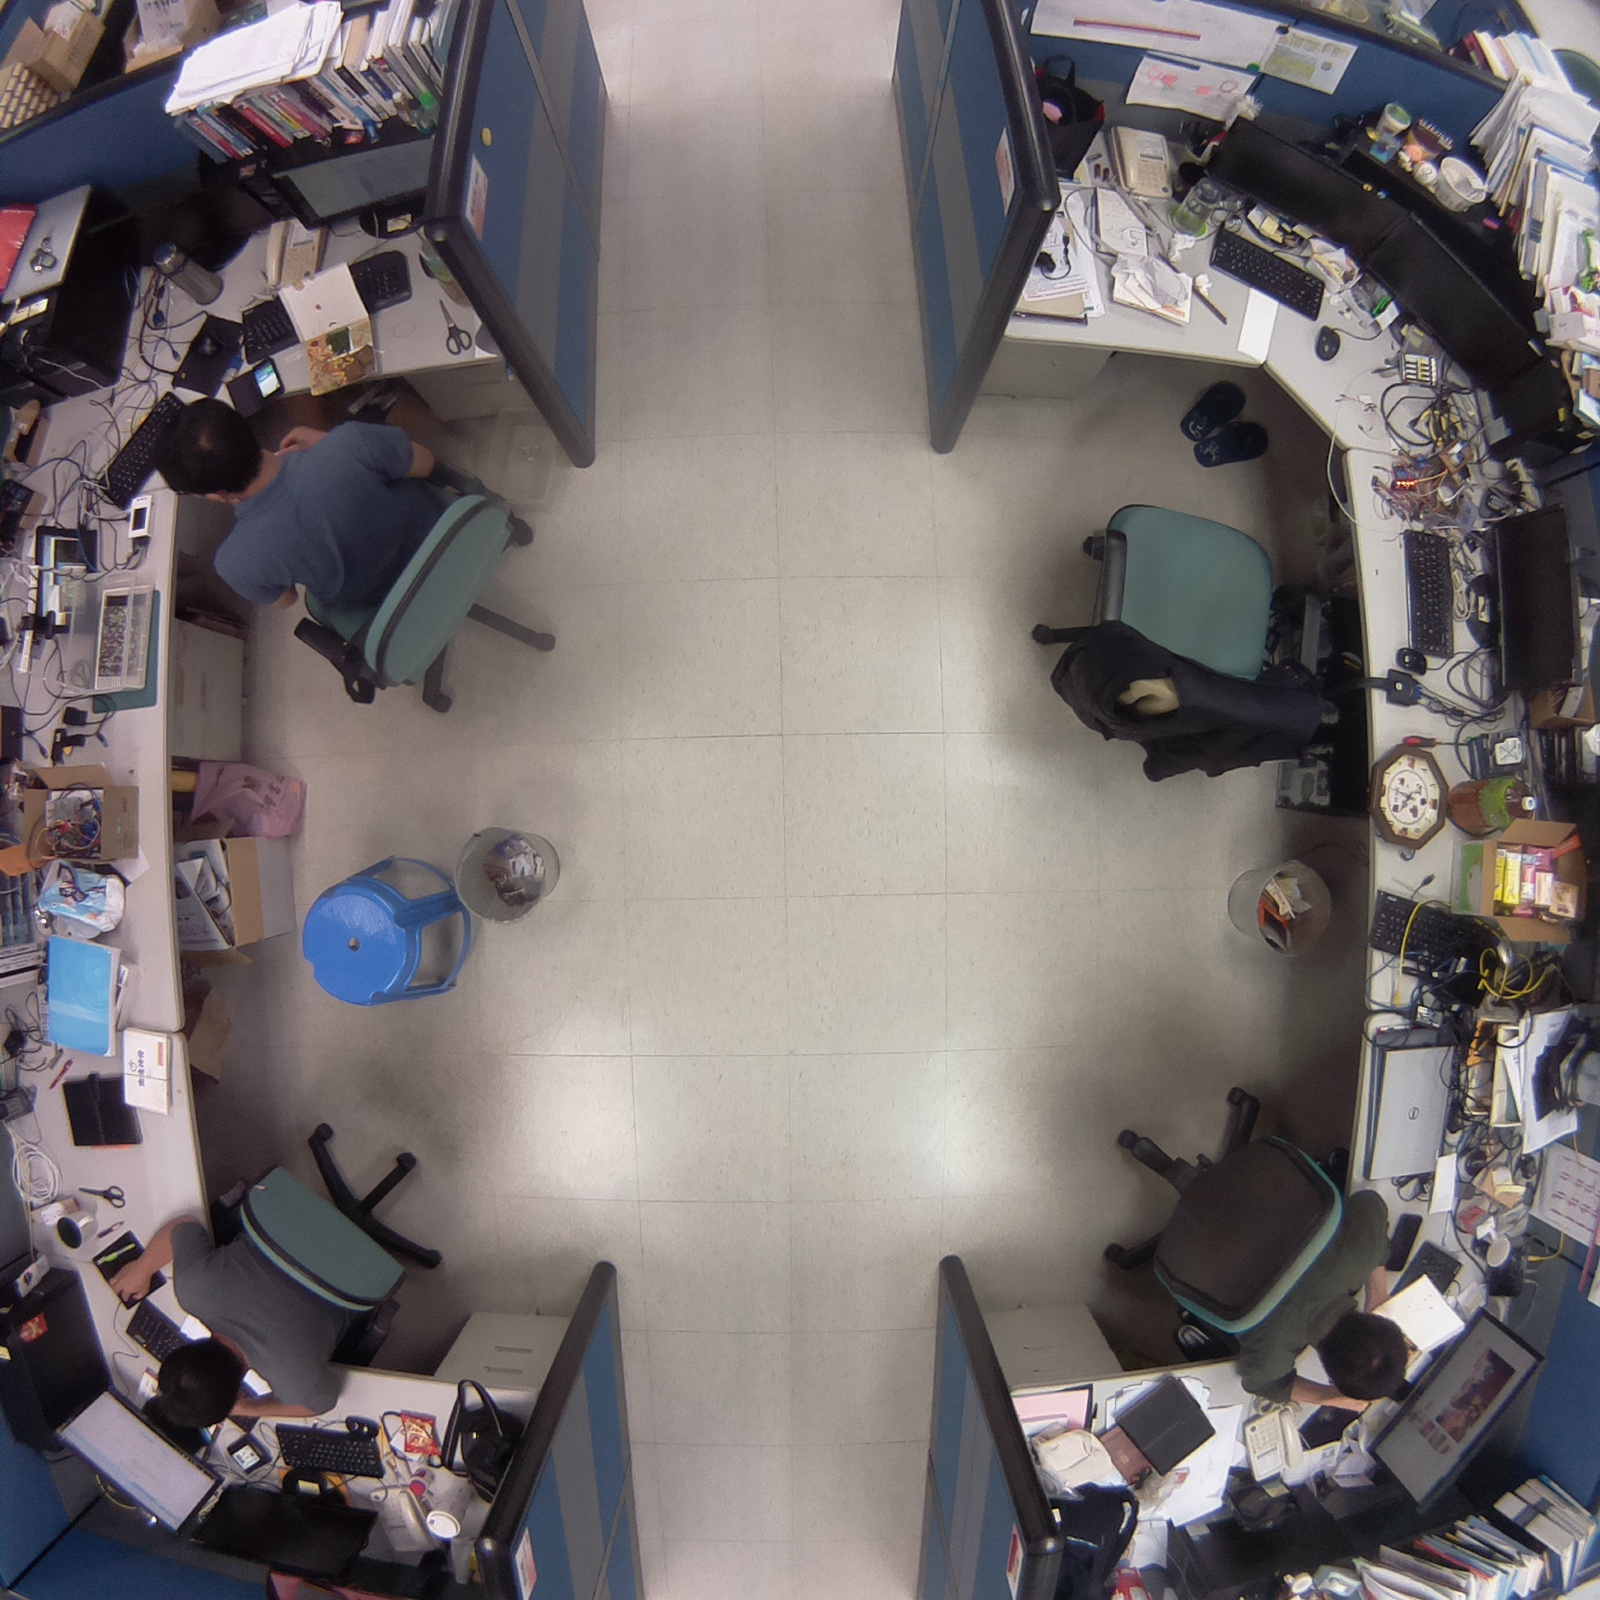chair: (1017, 475, 1337, 796)
head: (143, 390, 268, 512), (1309, 1300, 1419, 1412), (143, 1335, 254, 1435)
sitting: (126, 377, 581, 734), (1088, 1065, 1427, 1429), (98, 1114, 468, 1434)
